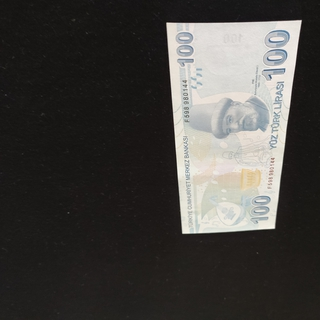100TLBack: (164, 19, 302, 233)
